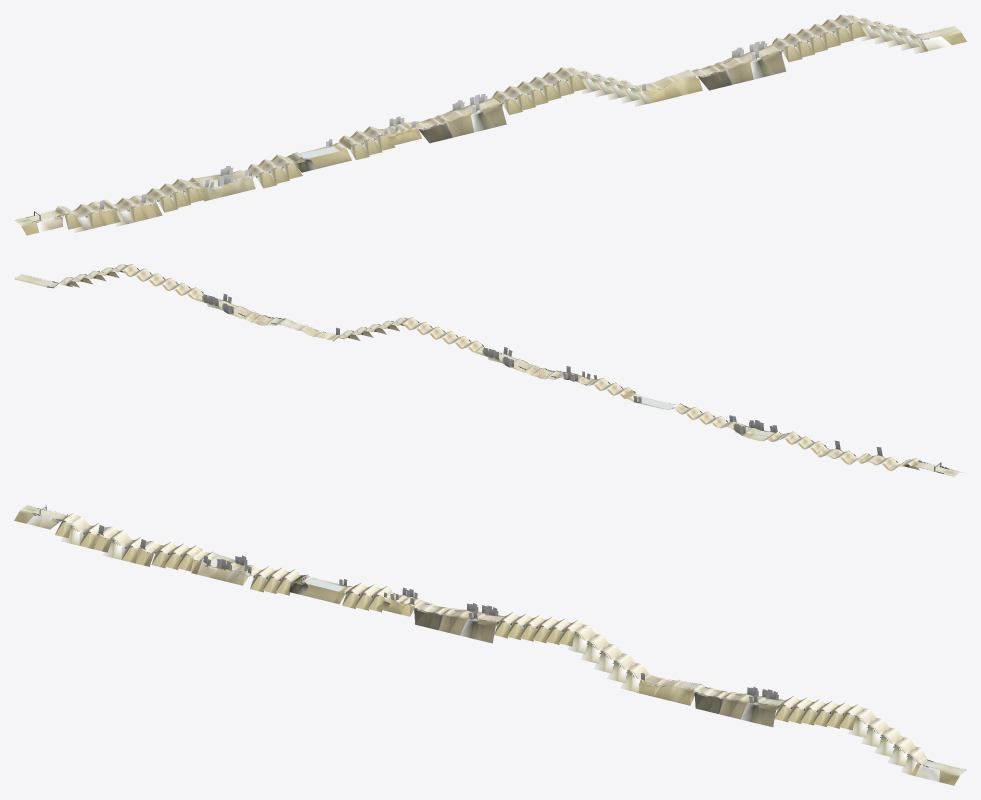
The model's file is Beach_03.fbx.
3 renders of one model, top to bottom at view 1: azimuth 30°, elevation 25°; view 2: azimuth 150°, elevation 25°; view 3: azimuth 330°, elevation 25°, orthographic.
Visible parts, largest first — view 1: Beach_Level_46, Road_01; view 2: Beach_Level_46, Road_01; view 3: Beach_Level_46, Road_01.
Part boxes in pixels (x1=…): Beach_Level_46: x1=15, y1=15, x2=959, y2=232; Road_01: x1=14, y1=14, x2=966, y2=235; Beach_Level_46: x1=15, y1=264, x2=959, y2=476; Road_01: x1=14, y1=268, x2=963, y2=476; Beach_Level_46: x1=21, y1=505, x2=965, y2=781; Road_01: x1=14, y1=505, x2=966, y2=785.
Bounding box in the file's own units: 113211 × 6730 × 4131.
